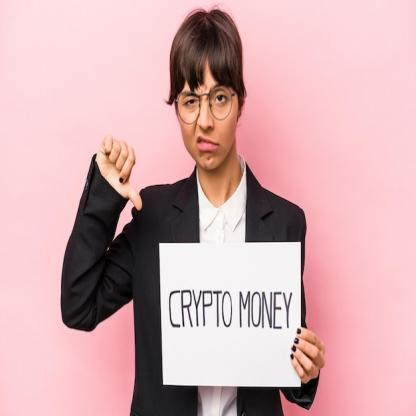thumb_down: (94, 131, 146, 216)
